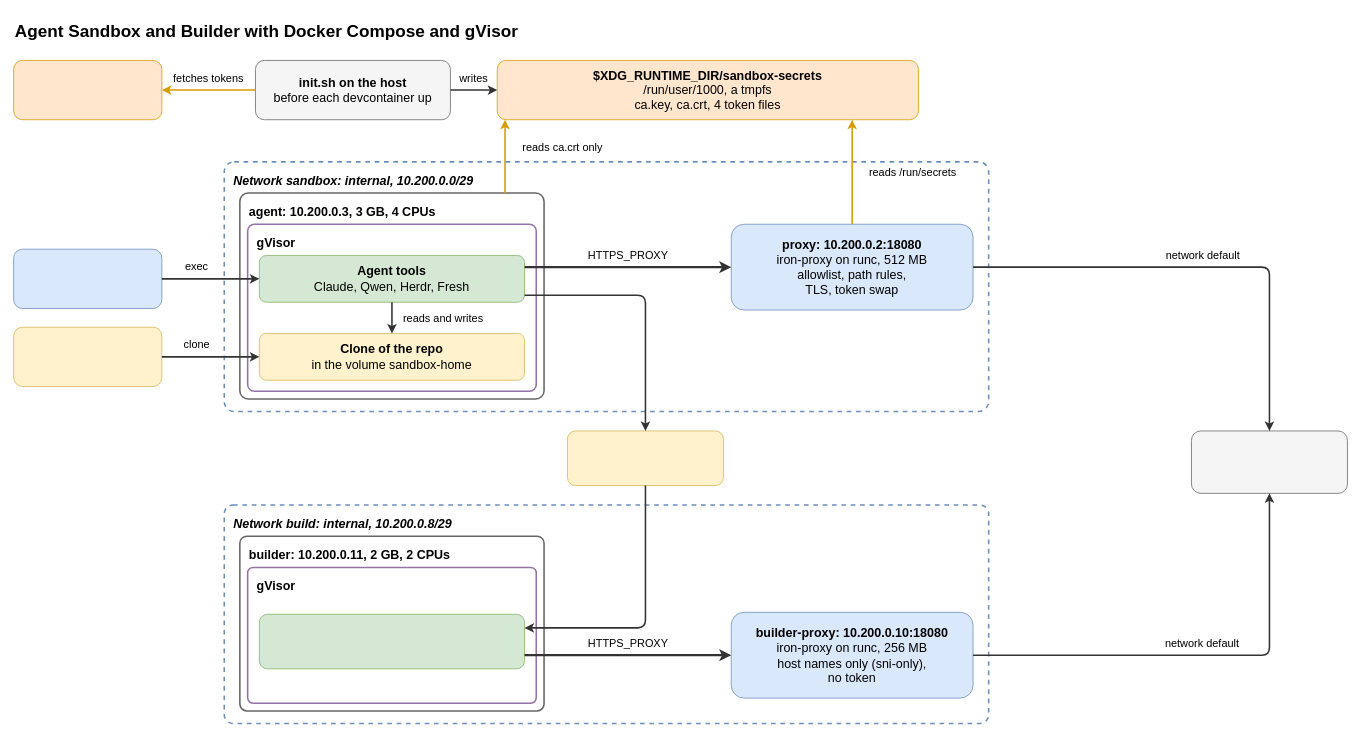
The diagram is 1361 pixels wide and 737 high, and some of its shapes have lost their labels. Here are the shapes that lost their labels. From the top down, the centre of each, then its label:
point (87, 90): Bitwarden Secrets Manager
point (87, 278): Your terminal devcontainer exec
point (87, 356): Repo .git folder, read-only
point (645, 458): Volume buildkit-sock buildkitd.sock for docker build
point (1269, 461): Internet allowed hosts
point (392, 641): BuildKit (buildkitd) no token, cache in tmpfs
